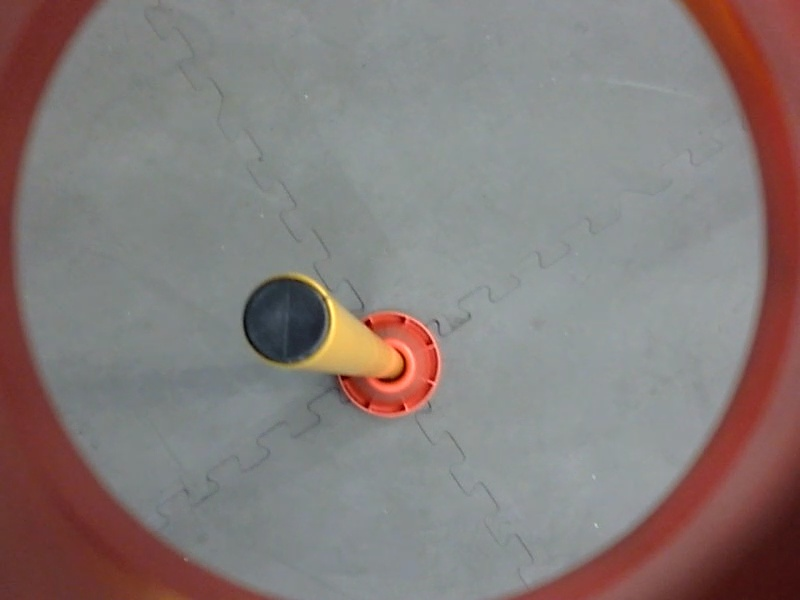tip: (234, 264, 341, 378)
